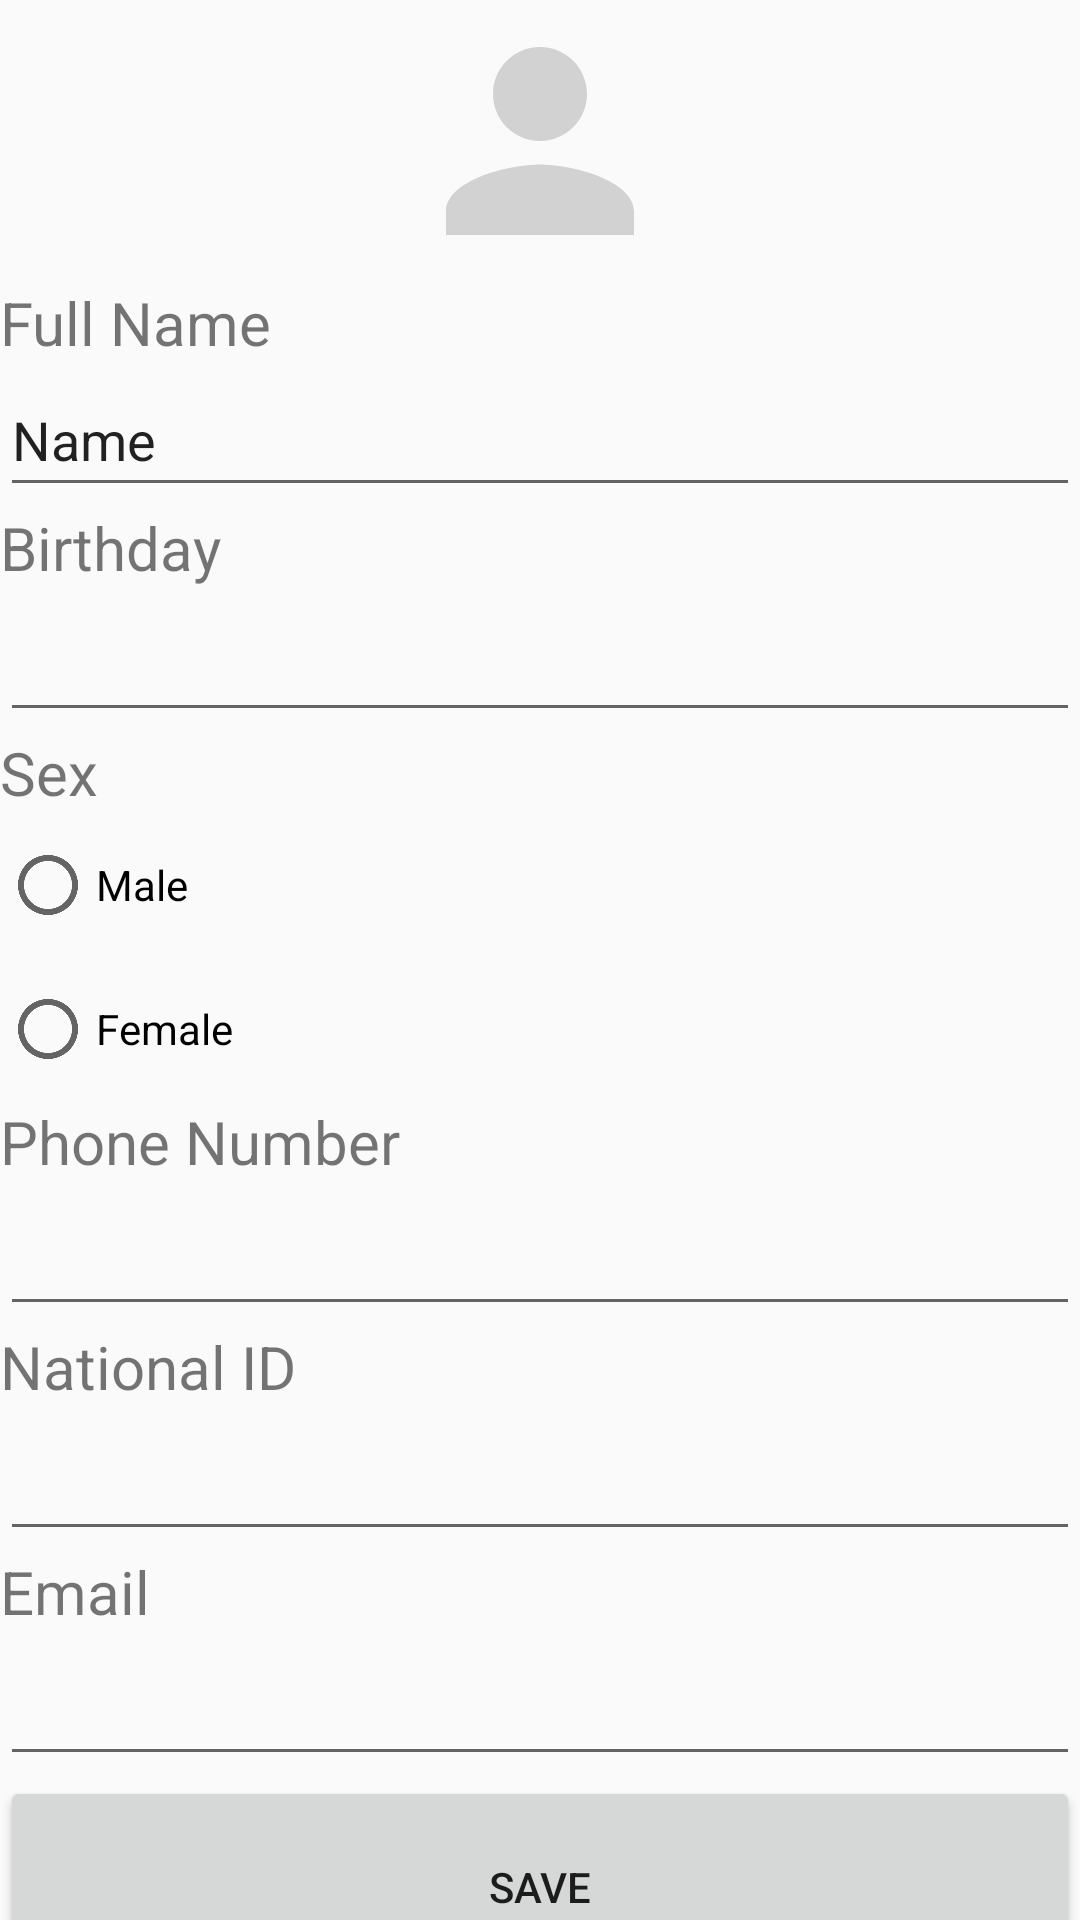

Locate icon controls on the screen. Image size 1080x1920, boxes as (x1=x1, y1=y1, x2=x2, y2=y2).
user: (x1=446, y1=47, x2=634, y2=235)
